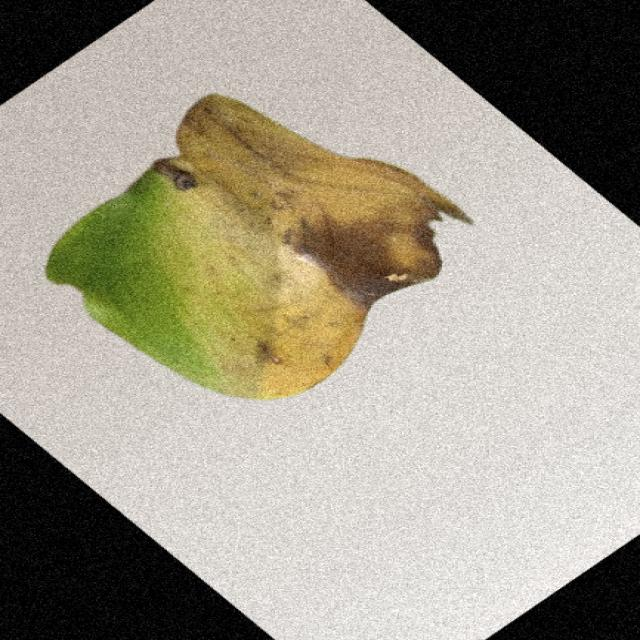daun berpenyakit kuning: (47, 95, 471, 398)
